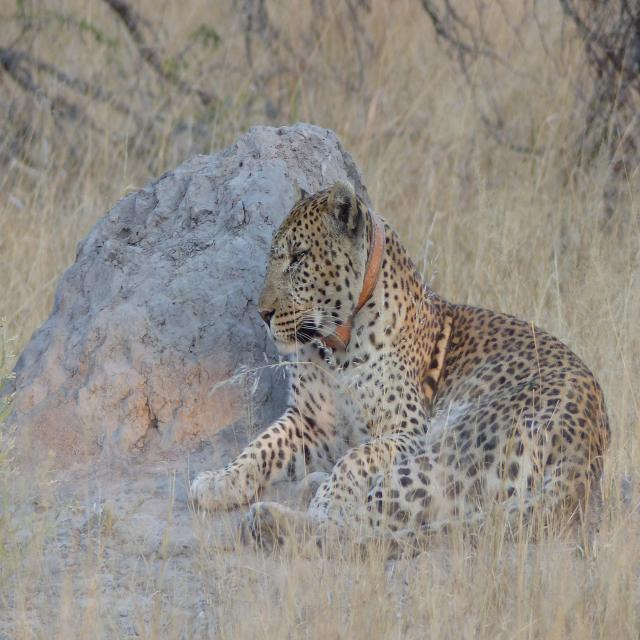Leopard: (217, 208, 543, 509)
